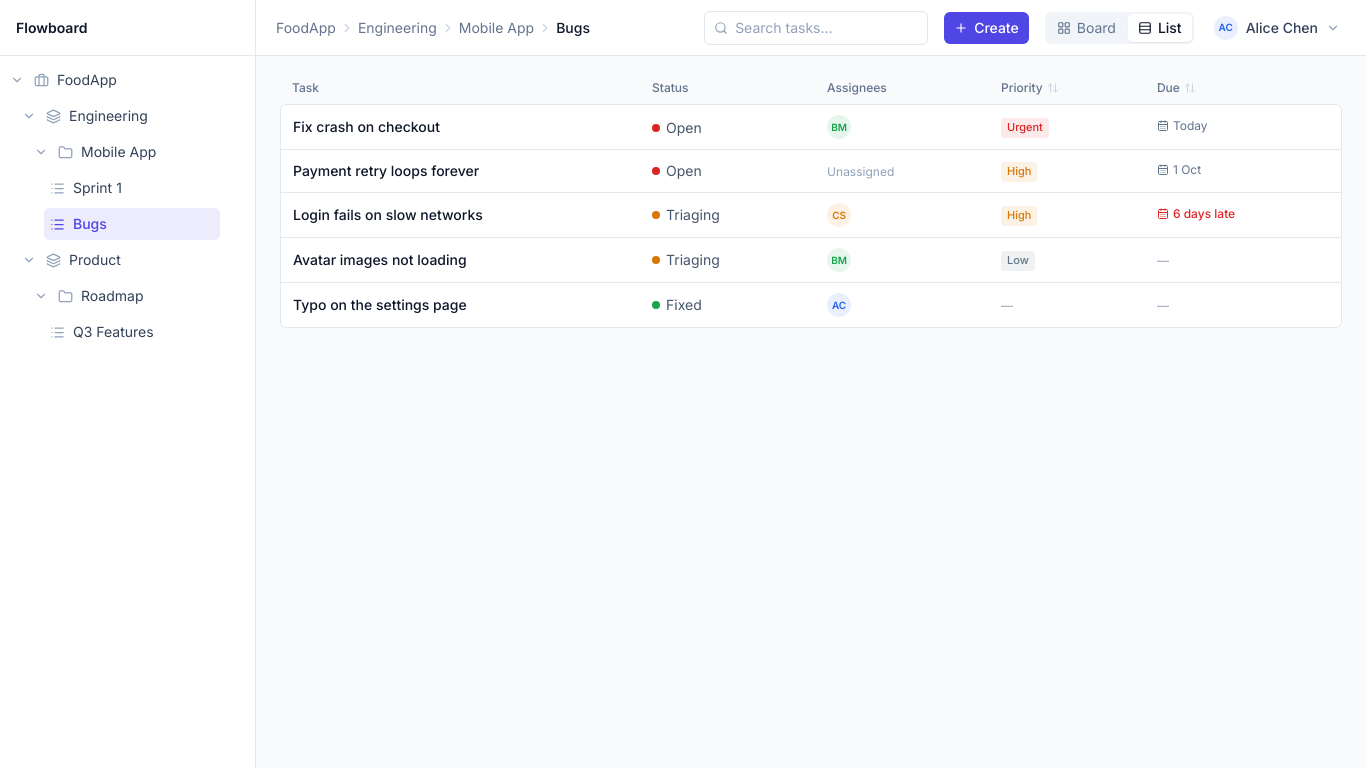
TaskTable — opening a task › opens the drawer when a row is clicked
This screenshot has width=1366, height=768.
Click the row "Fix crash on checkout Open BM Urgent Today": (811, 126) [280,104,1342,149]
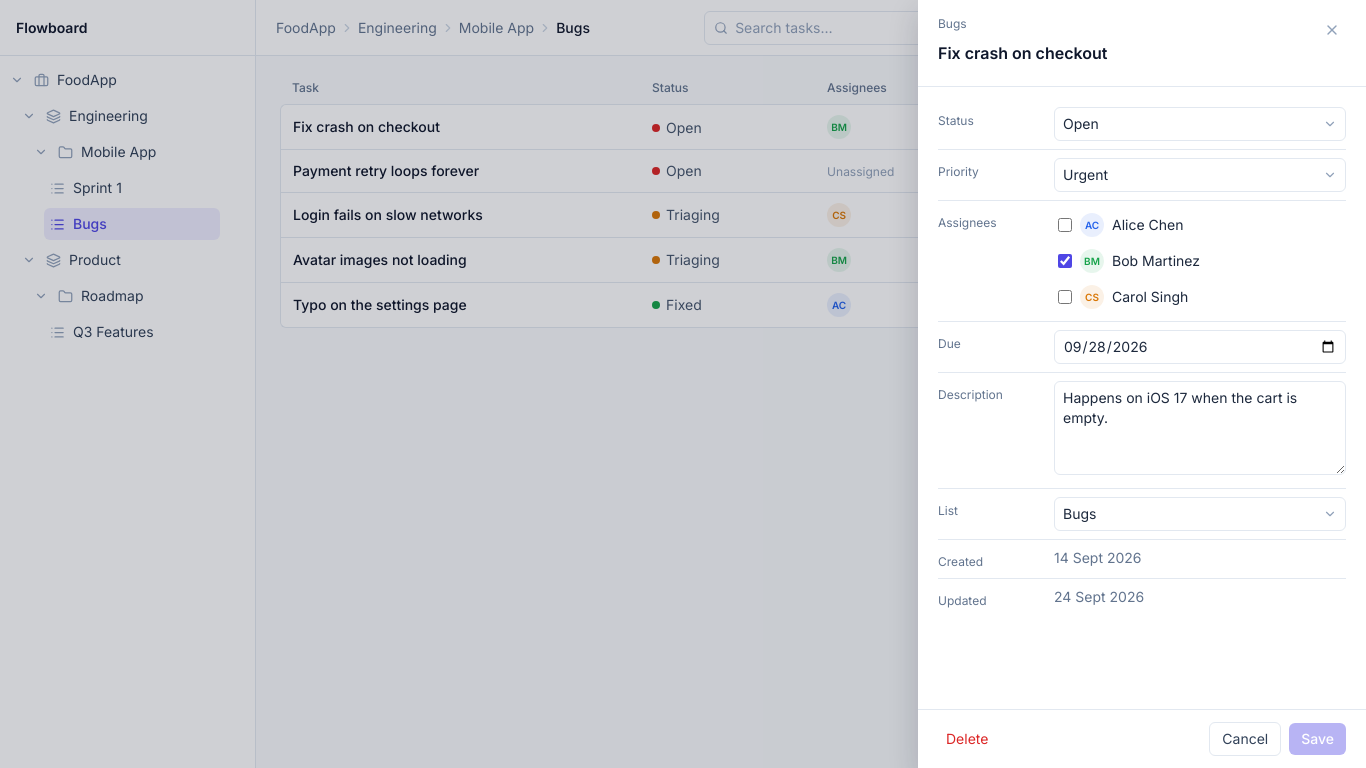
Expected: the field named "Title" holds "Fix crash on checkout", [928,36,1296,70]
